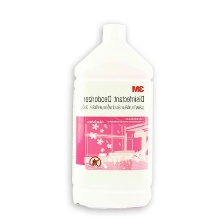cleaning_solution: (66, 20, 158, 211)
